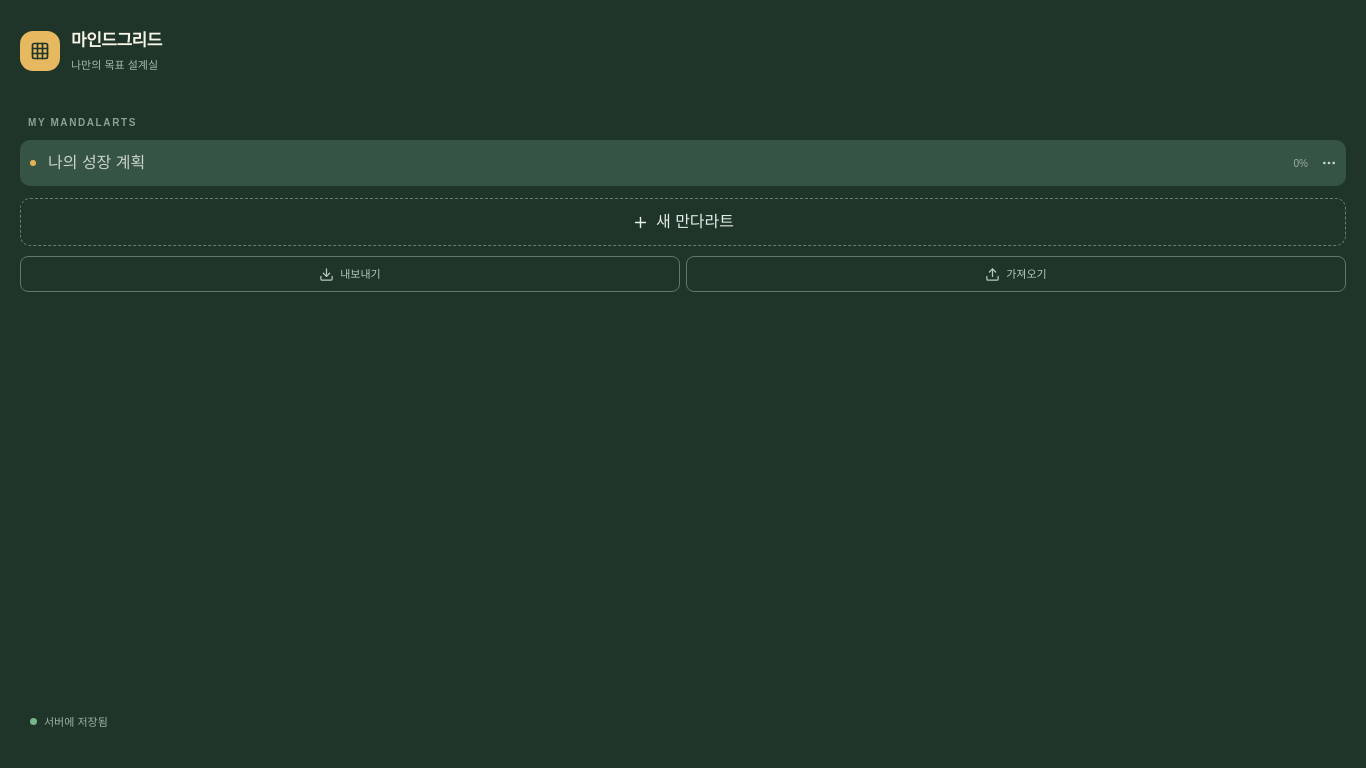
Test: mandalart management › closes an open management menu with Escape
The width and height of the screenshot is (1366, 768).
Click the button named "나의 성장 계획 관리" at (1329, 163), box left=1312, top=140, right=1346, bottom=186
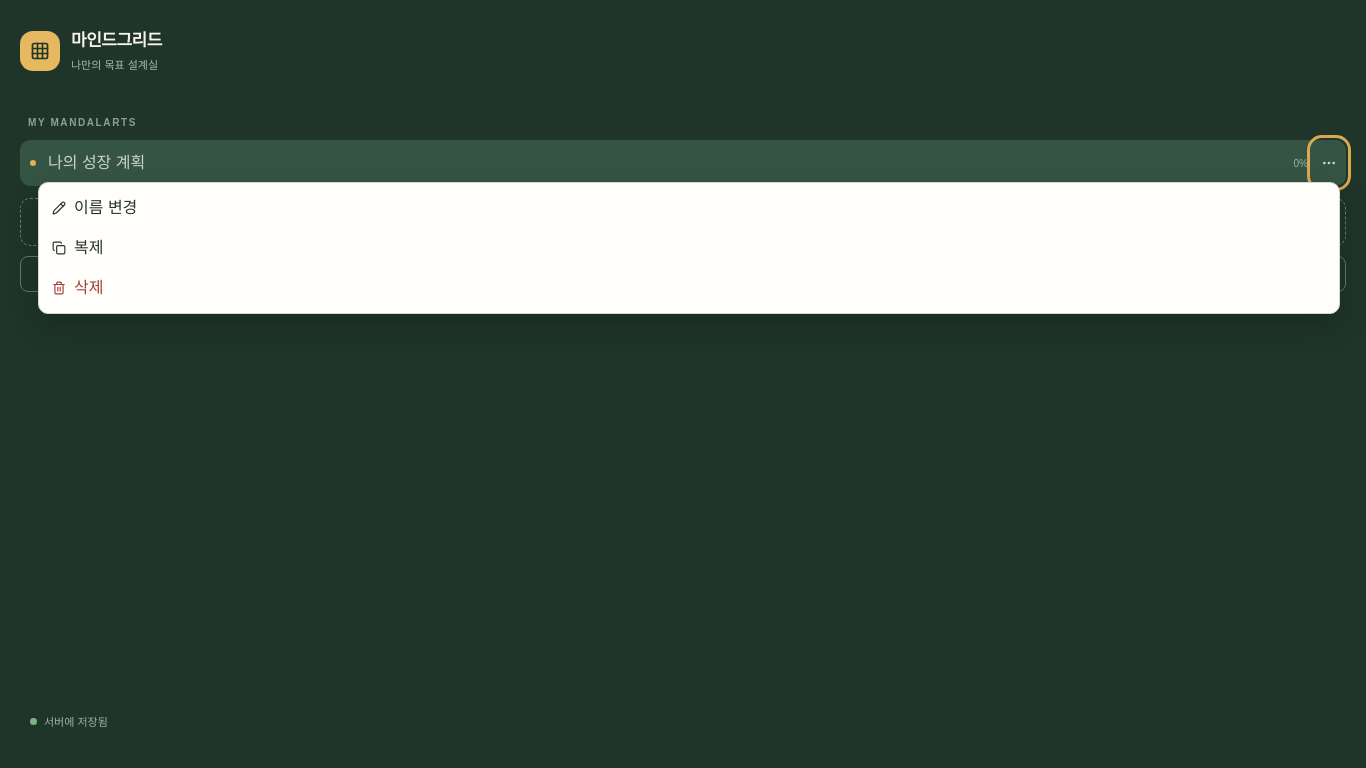
Now the menu is shown, box left=38, top=182, right=1340, bottom=314
Press Escape
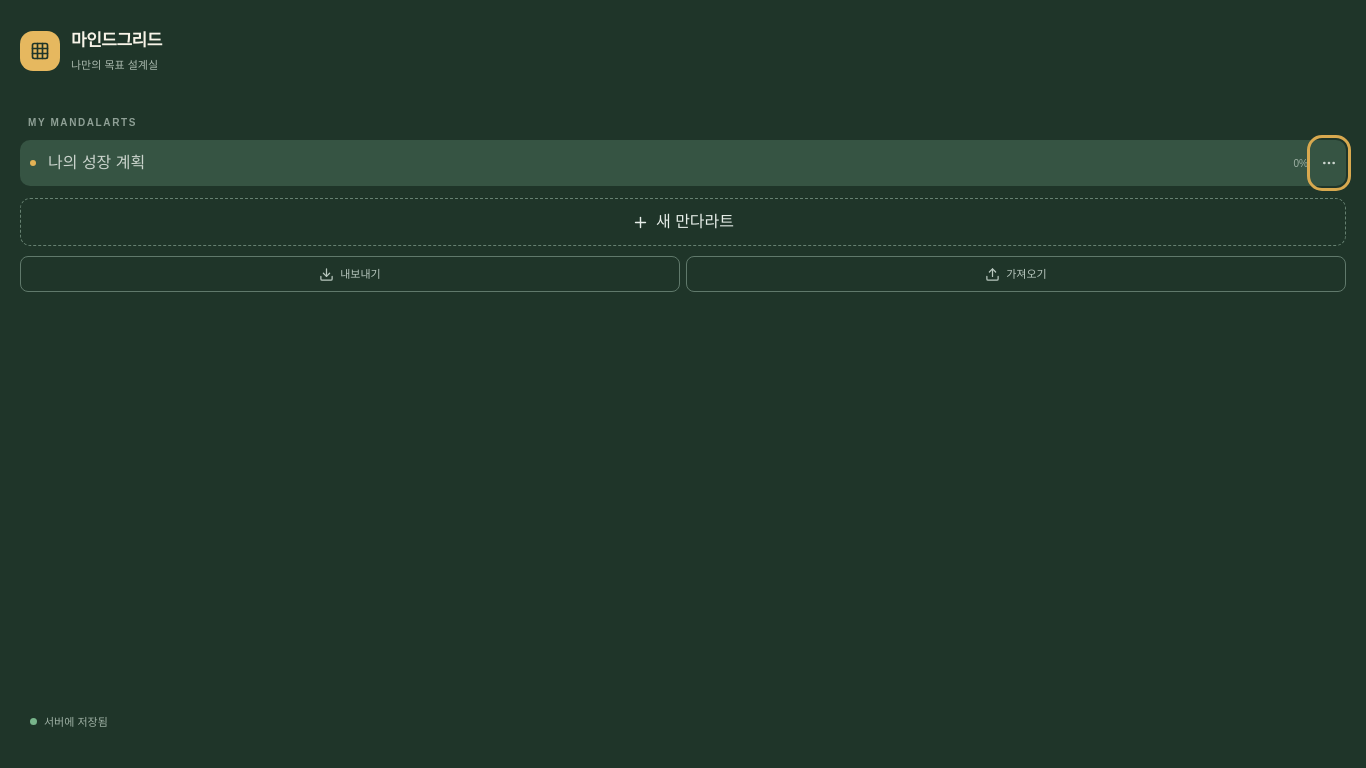
Now the menu is gone
